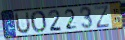2: (48, 8, 63, 32), (64, 9, 78, 31)
3: (79, 6, 93, 31)
O: (29, 10, 47, 34)
U: (14, 11, 32, 36)
Z: (94, 4, 111, 30)
